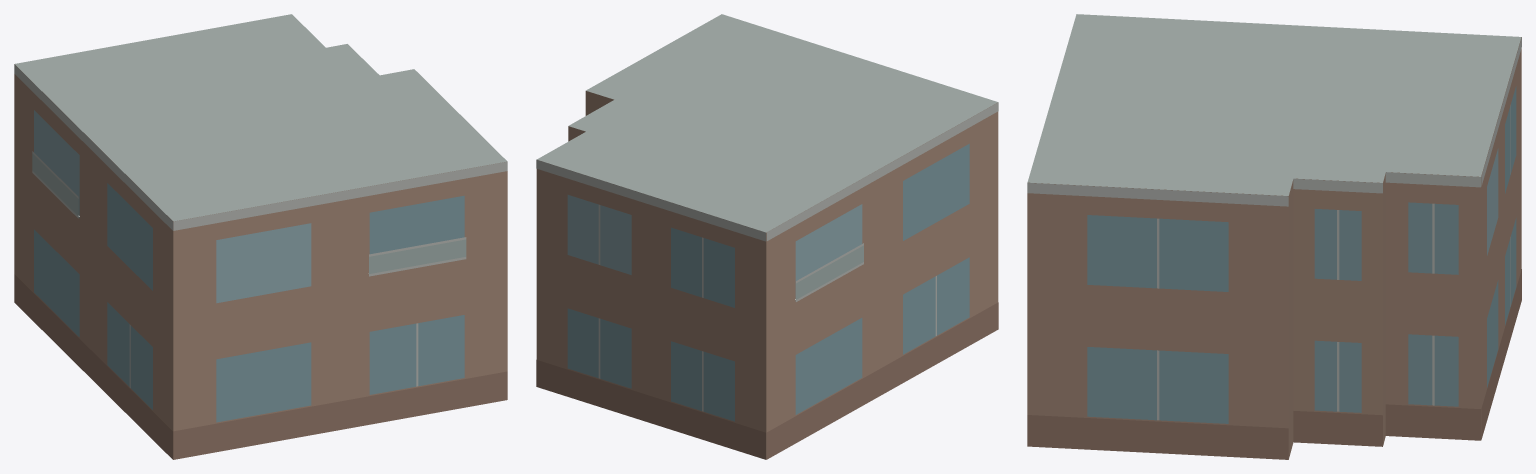
File: survey-upis-32806039.glb
3 views of the same model, side by side, from view 1: azimuth 30°, elevation 25°; view 2: azimuth 150°, elevation 25°; view 3: azimuth 270°, elevation 25° (orthographic). The views are drawn at different scales.
Visible parts, largest first — view 1: survey-upis-32806039.tmp; view 2: survey-upis-32806039.tmp; view 3: survey-upis-32806039.tmp.
Part boxes in pixels (<box>): survey-upis-32806039.tmp: <box>14,14,507,459</box>; survey-upis-32806039.tmp: <box>536,14,998,459</box>; survey-upis-32806039.tmp: <box>1027,14,1521,459</box>.
Size of the model in its own units: 9.04 by 6.1 by 10.37.
